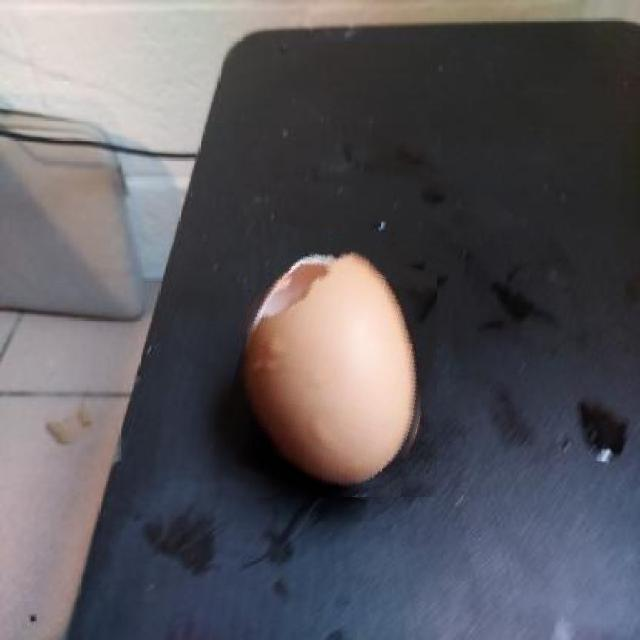biodegradable: (225, 231, 437, 497)
